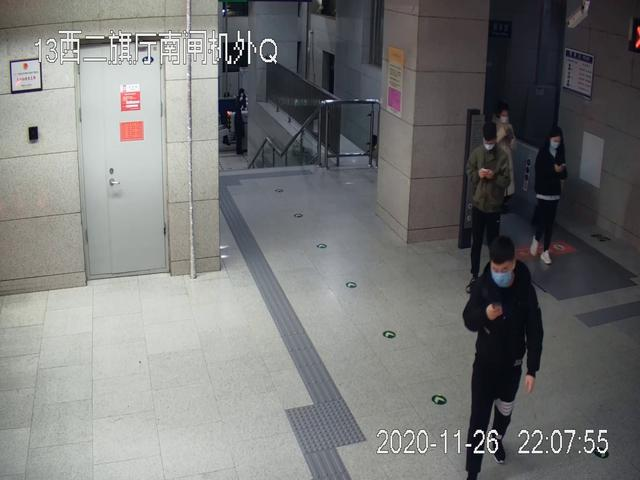person: (462, 237, 544, 480), (467, 120, 509, 295), (528, 126, 566, 266)
